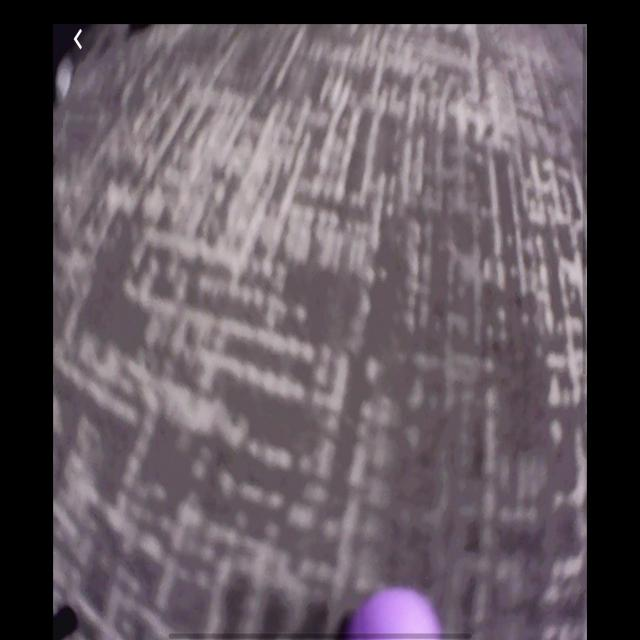ball: (351, 586, 440, 640)
